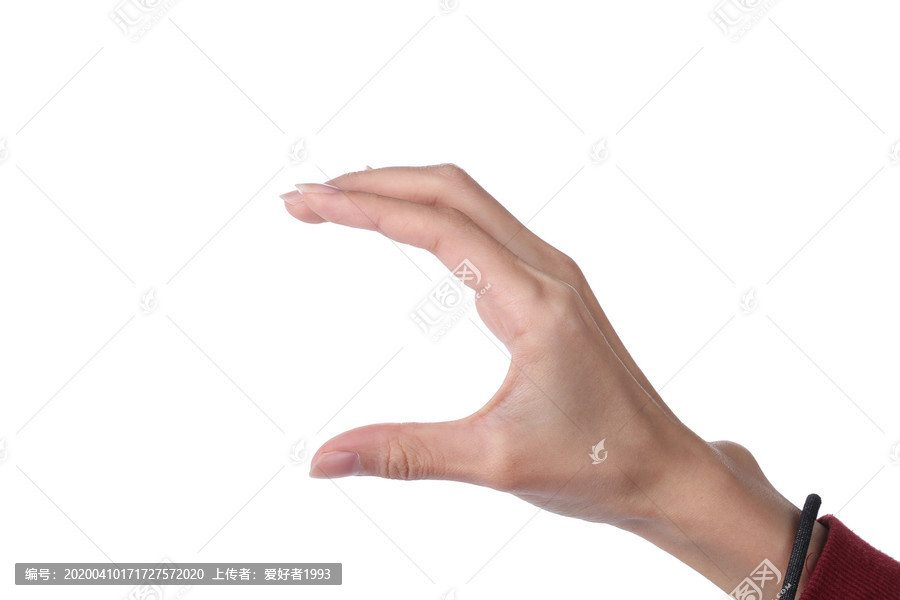no-phone: (250, 141, 710, 557)
